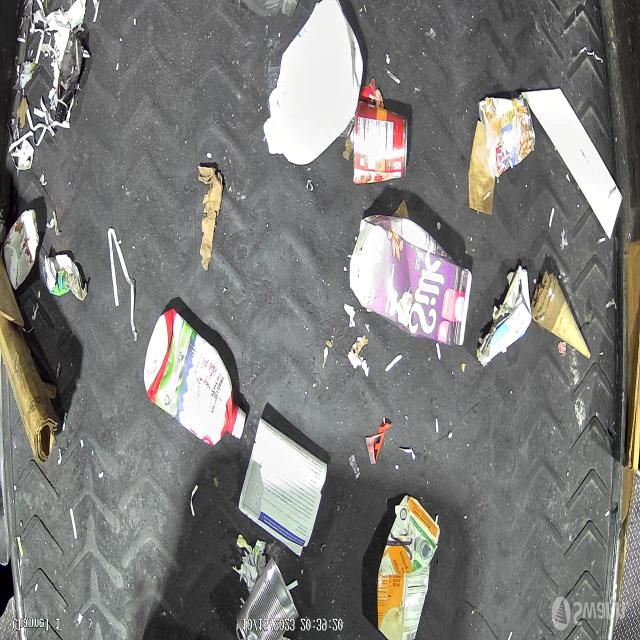can: (349, 101, 411, 195), (238, 560, 304, 640)
milk_jug: (260, 0, 370, 173)
